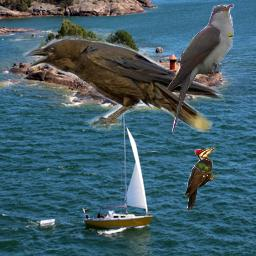Crow: (22, 34, 226, 132)
Cuckoo: (166, 4, 234, 135)
Woodpecker: (184, 145, 219, 212)
